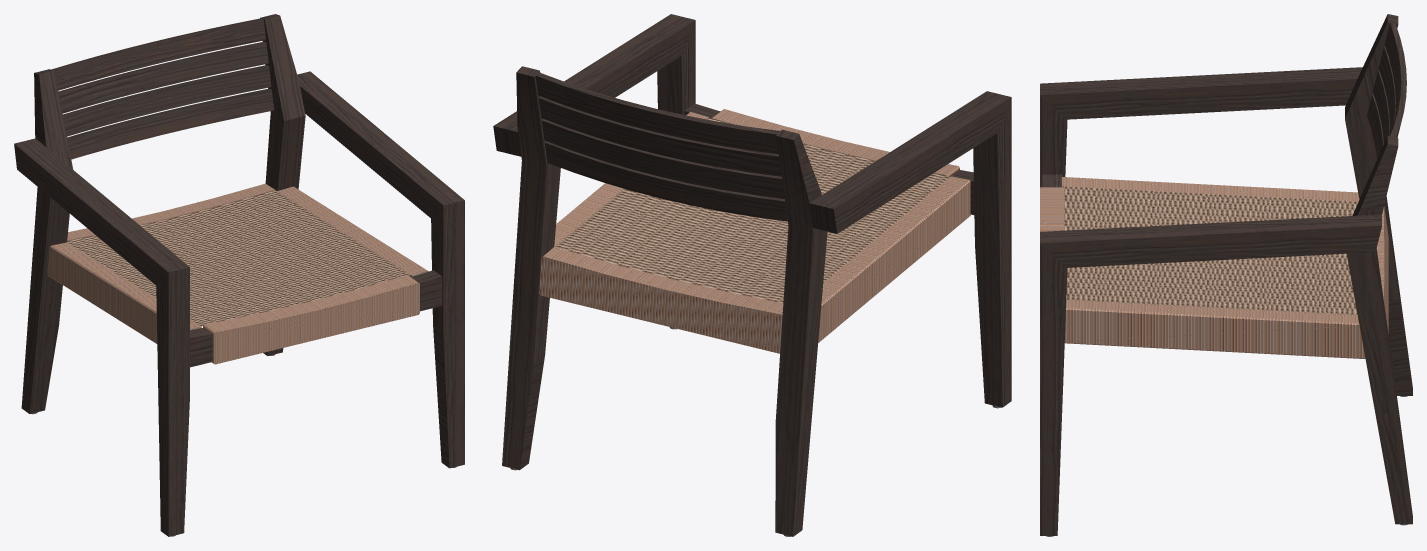
Rendered from mikado_singlesofachair_nocolor.fbx.
The picture shows the model from 3 angles, left to right: view 1: azimuth 30°, elevation 25°; view 2: azimuth 150°, elevation 25°; view 3: azimuth 270°, elevation 25°; orthographic projection. The views are drawn at different scales.
Parts seen in each view (by area): view 1: mikado_singlesofachair; view 2: mikado_singlesofachair; view 3: mikado_singlesofachair.
Boxes of the visible parts, box(x1,y1,x2,y2) form: mikado_singlesofachair: box(14, 14, 464, 536); mikado_singlesofachair: box(493, 14, 1011, 536); mikado_singlesofachair: box(1040, 14, 1412, 536).
Bounding box in the file's own units: 69 × 76.5 × 68.
Materials: 6 (5 with a texture image).
